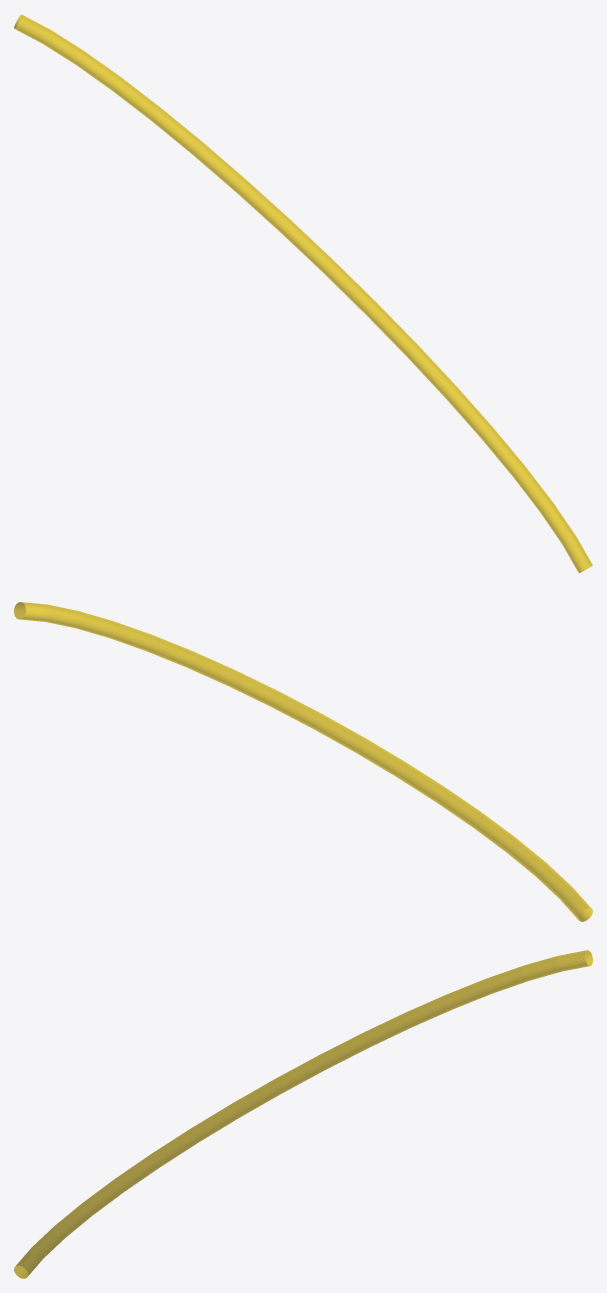
File: Event_419990632_track_24.fbx
The picture shows the model from 3 angles, top to bottom: view 1: azimuth 90°, elevation 25°; view 2: azimuth 150°, elevation 25°; view 3: azimuth 270°, elevation 25°; orthographic projection. The views are drawn at different scales.
Parts seen in each view (by area): view 1: Model; view 2: Model; view 3: Model.
Part boxes in pixels (left/top/right/bottom): Model: left=14, top=14, right=592, bottom=573; Model: left=14, top=602, right=592, bottom=921; Model: left=14, top=950, right=592, bottom=1278.
Size of the model in its own units: 0.7184 by 1.2 by 1.43.
